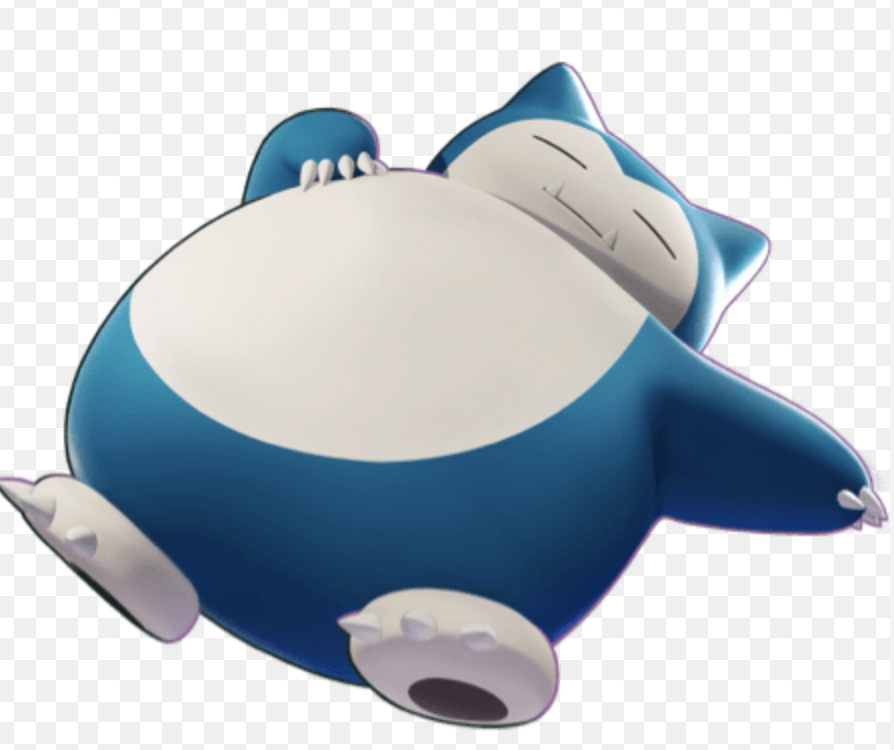Snorlax: (10, 45, 883, 732)
